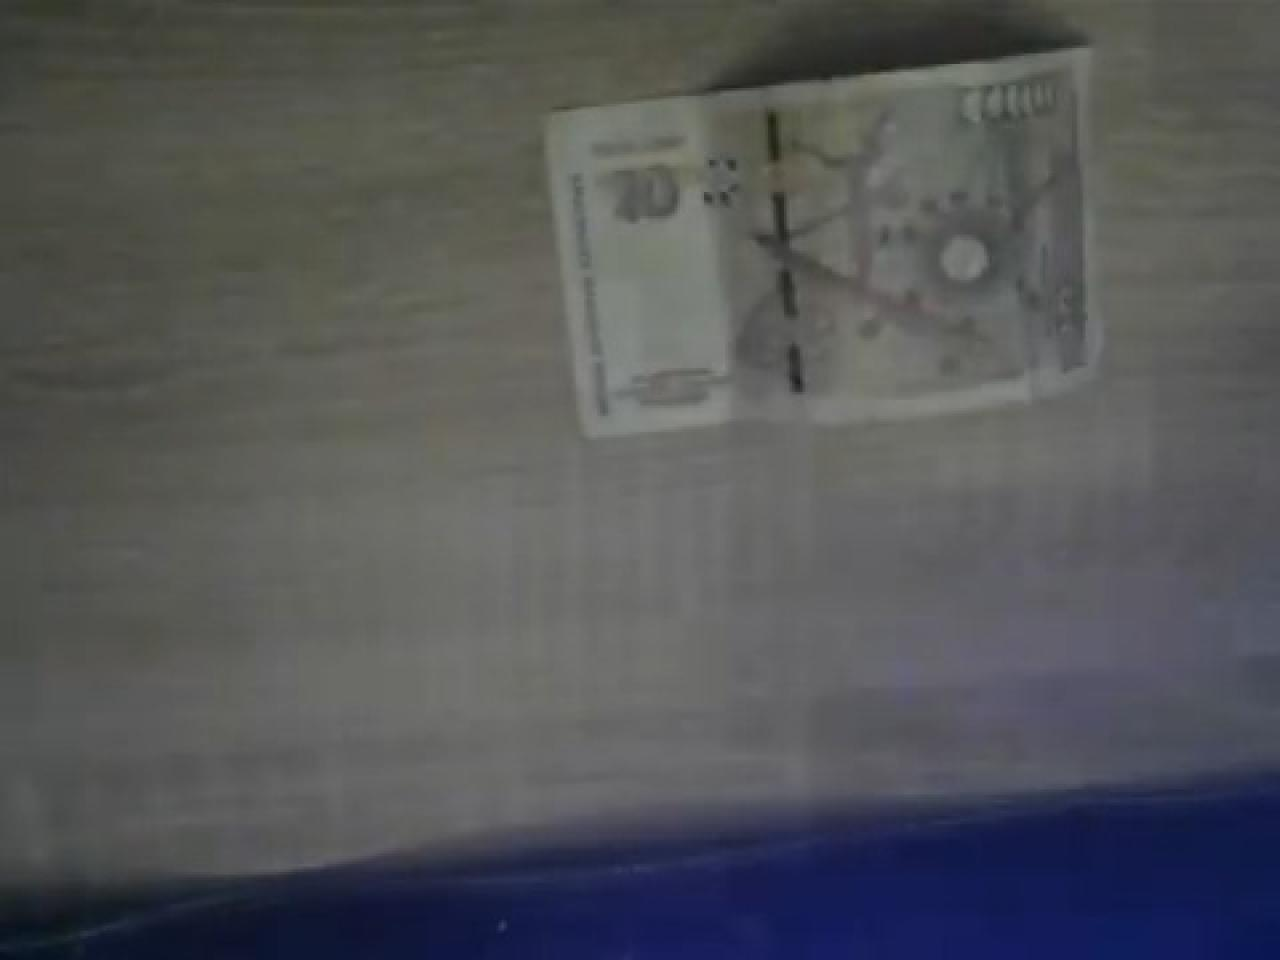10leva: (541, 40, 1107, 438)
